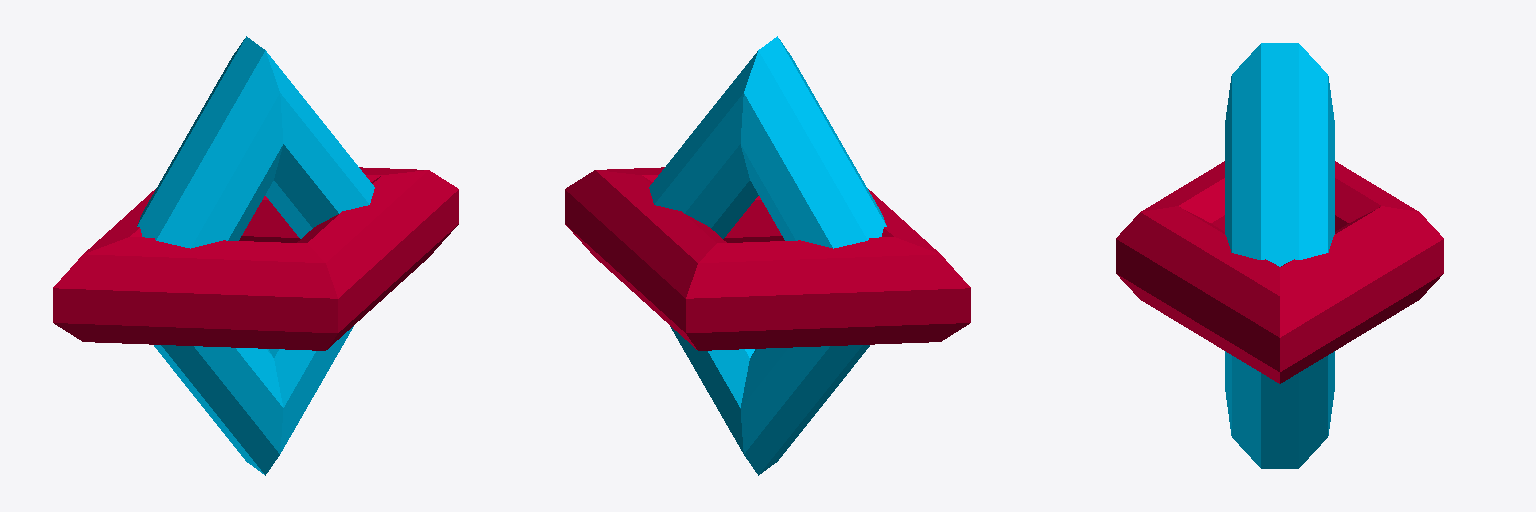
3 views of the same model, side by side, from view 1: azimuth 30°, elevation 25°; view 2: azimuth 150°, elevation 25°; view 3: azimuth 270°, elevation 25° (orthographic).
Parts seen in each view (by area): view 1: pTorus1 crystal, crystal pTorus2; view 2: pTorus1 crystal, crystal pTorus2; view 3: pTorus1 crystal, crystal pTorus2.
Boxes of the visible parts, box(x1,y1,x2,y2) form: pTorus1 crystal: box(53, 167, 458, 350); crystal pTorus2: box(137, 36, 374, 475); pTorus1 crystal: box(565, 167, 970, 350); crystal pTorus2: box(649, 36, 886, 475); pTorus1 crystal: box(1116, 161, 1443, 383); crystal pTorus2: box(1225, 43, 1334, 468).
Bounding box in the file's own units: 0.294 × 0.294 × 0.2058.
1 materials, 1 textured.